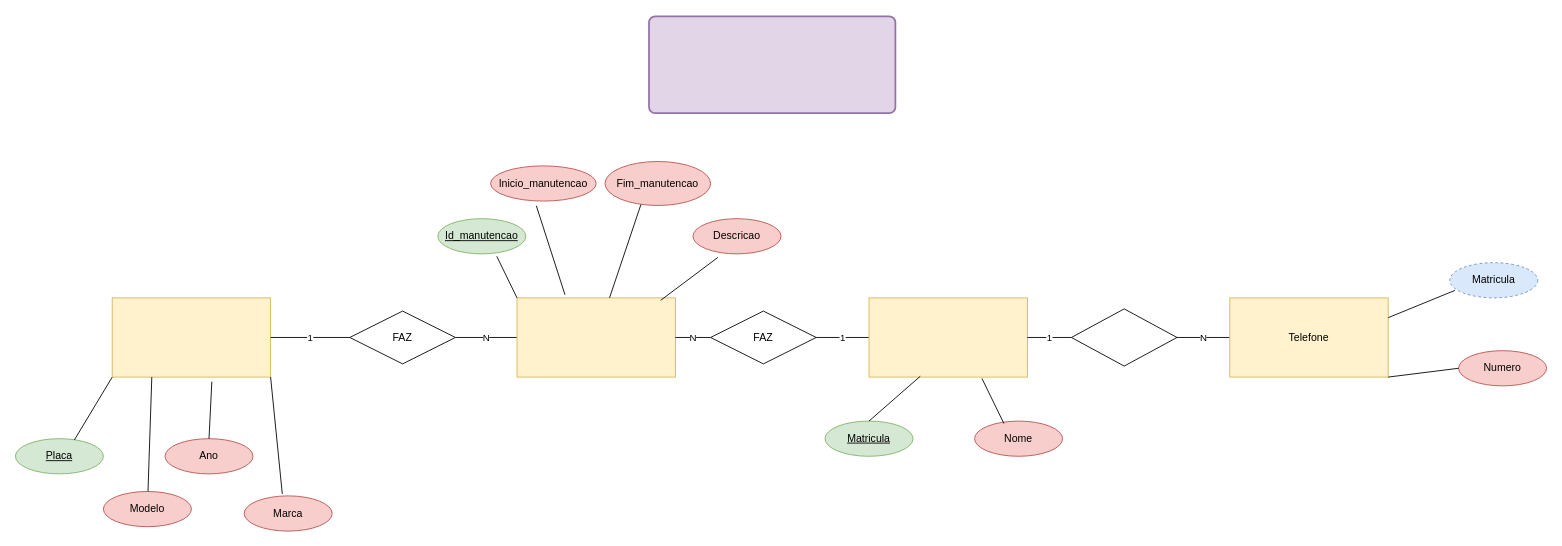
Some shapes in this 1562 by 546 pixel diagram are drawn without their labels. Here are the shapes that lost their labels. From the top down, the centre of each, then its label:
At pixel 772 64: "OFICINA".
At pixel 191 337: "Veiculo".
At pixel 595 337: "Manutenção".
At pixel 947 337: "Funcionario".
At pixel 1124 337: "POSSUI".
